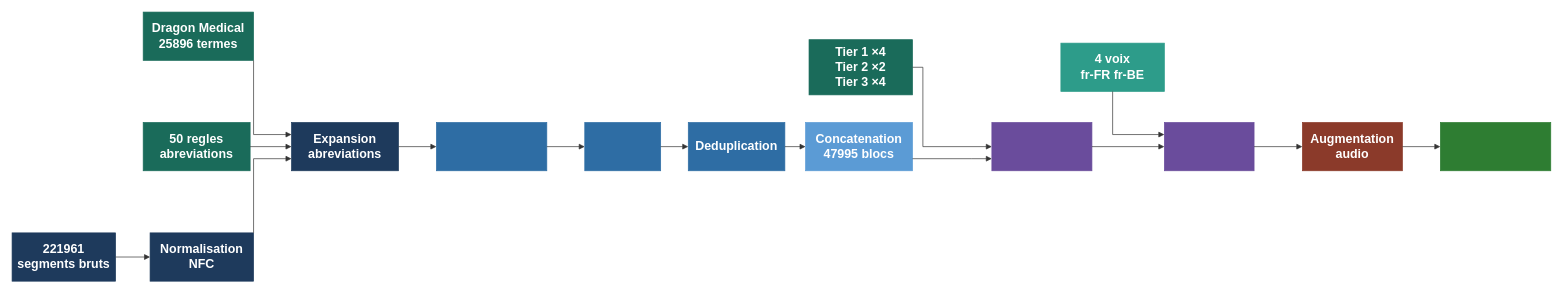
The diagram is 1563 pixels wide and 293 high, and some of its shapes have lost their labels. The shapes that lost their labels are listed below. From the top down, each one's centre as x and y in pixels, then its label:
At [491,146]: "Correction orthographique".
At [622,146]: "Filtrage".
At [1041,146]: "Greedy Set-Cover".
At [1209,146]: "Synthese TTS".
At [1495,146]: "20357 paires audio-texte".
